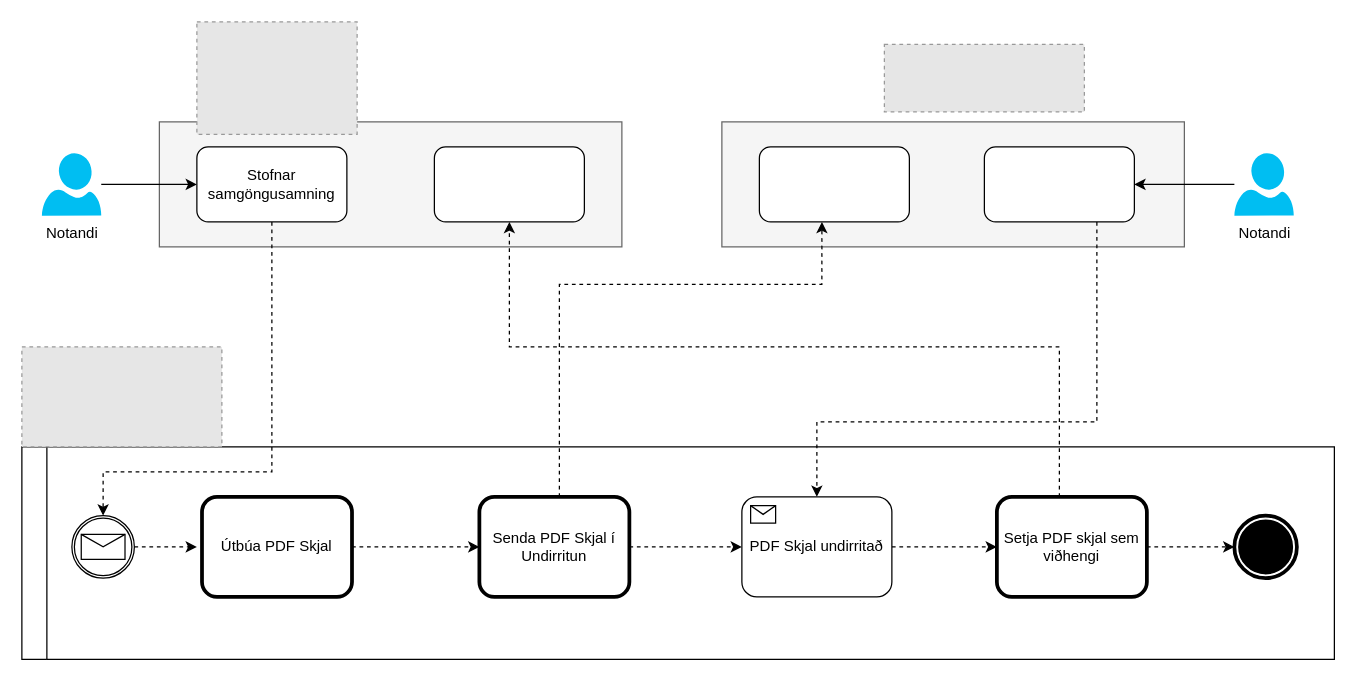
This 1356x681 diagram has some shape labels left out. Grey dashed boxes stand in for pictures. Here are the shapes that lost their labels. From the top down, the centre of each, then its label:
the point at 508,184: PDF skjal komip sem viðhengi á samgöngusamning
the point at 833,184: PDF skjal til undirritunar
the point at 1058,184: Undirritun
the point at 677,552: Samgöngusamningur
